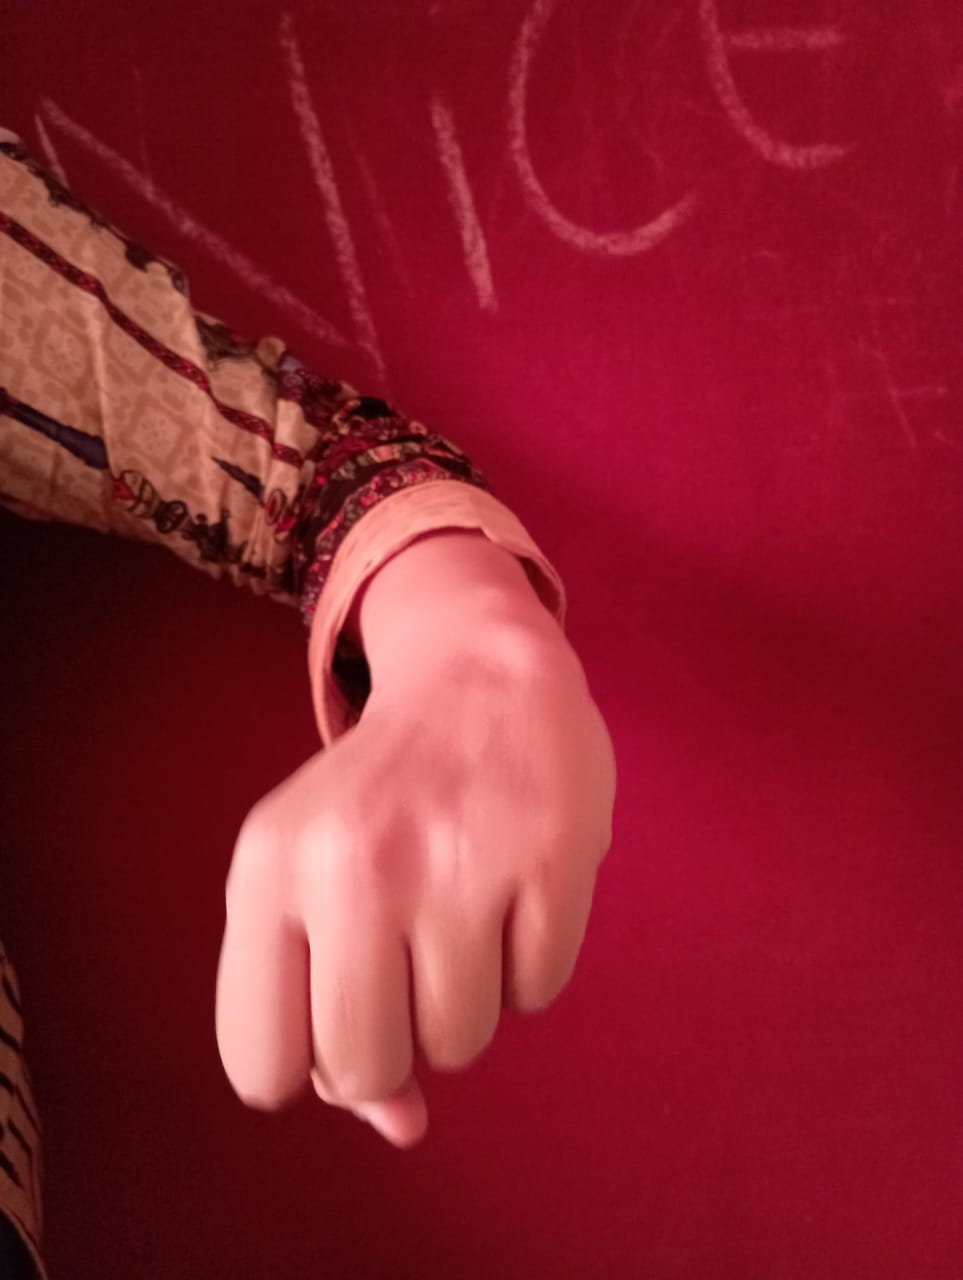BroCode: (207, 694, 617, 1206)
